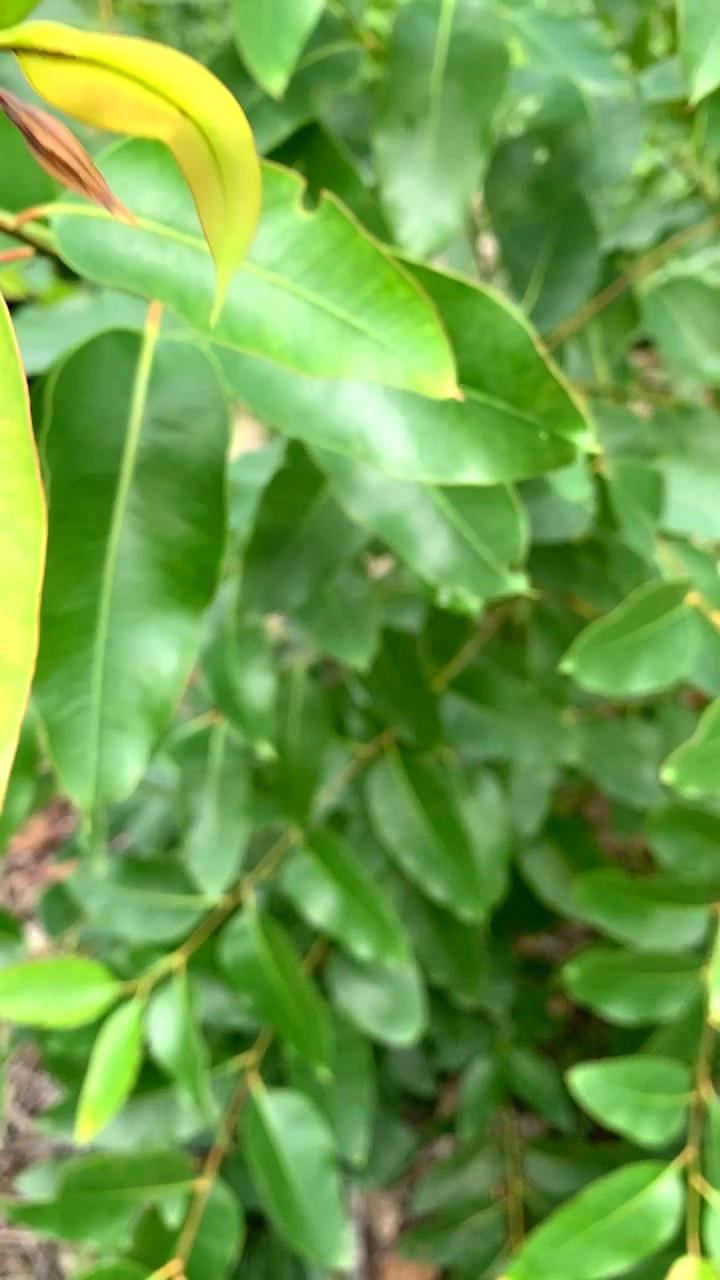Helopeltis-Withered Sprout: (6, 63, 155, 266)
